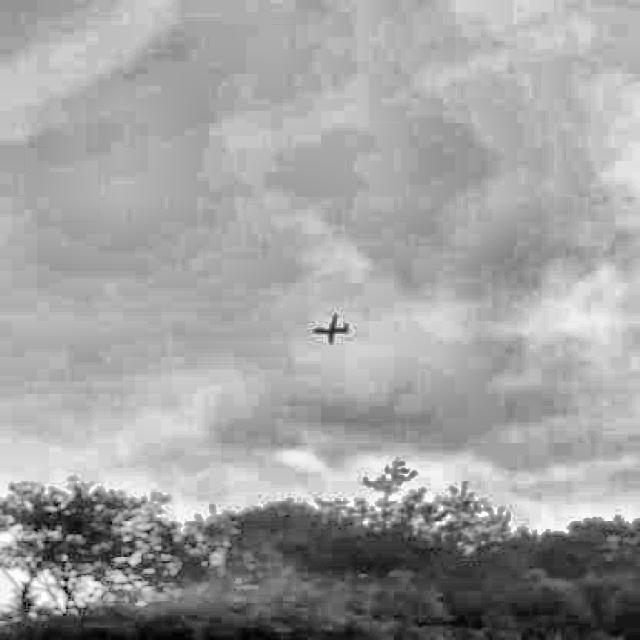RQ4: (312, 314, 350, 344)
